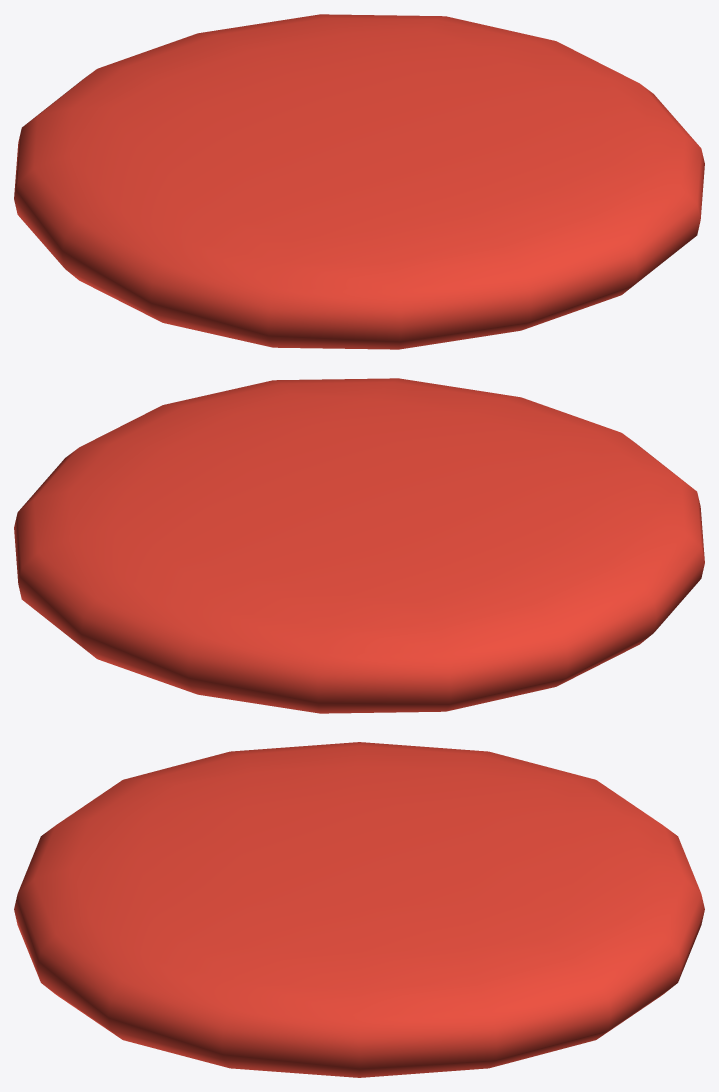
Rendered from Carne.glb.
3 views of the same model, one above another, from view 1: azimuth 30°, elevation 25°; view 2: azimuth 150°, elevation 25°; view 3: azimuth 270°, elevation 25° (orthographic).
Visible parts, largest first — view 1: Carne; view 2: Carne; view 3: Carne.
Part boxes in pixels (<box>): Carne: <box>14,14,704,349</box>; Carne: <box>14,378,704,713</box>; Carne: <box>14,742,704,1077</box>.
Size of the model in its own units: 1.97 by 0.3712 by 1.97.
